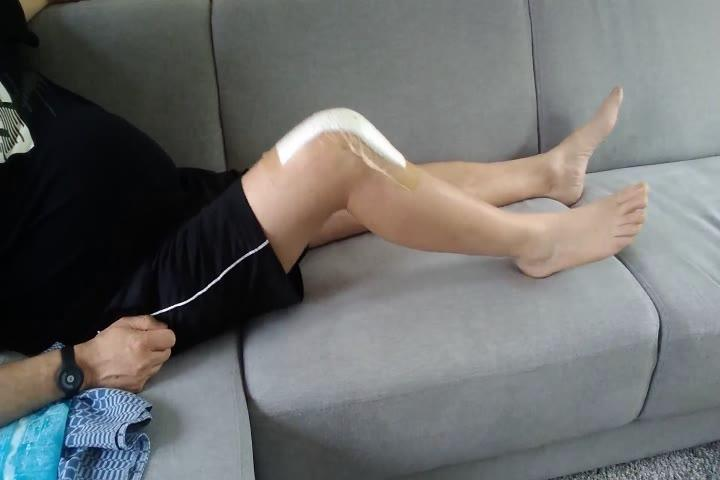lowerbody: (95, 77, 660, 370)
